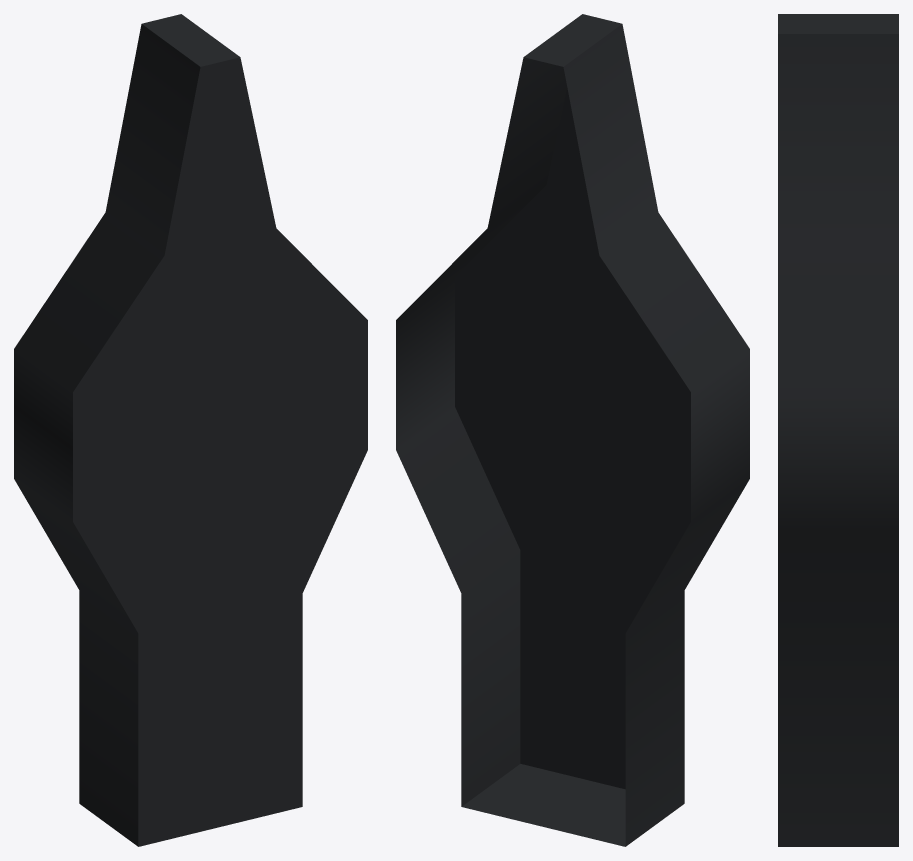
Rendered from SM_Bld_Clock_Tower_HourHand_01.fbx.
3 renders of one model, left to right at view 1: azimuth 30°, elevation 25°; view 2: azimuth 150°, elevation 25°; view 3: azimuth 270°, elevation 25°, orthographic. The views are drawn at different scales.
Parts seen in each view (by area): view 1: SM_Bld_Clock_Tower_HourHand_01; view 2: SM_Bld_Clock_Tower_HourHand_01; view 3: SM_Bld_Clock_Tower_HourHand_01.
Part boxes in pixels (left/top/right/bottom): SM_Bld_Clock_Tower_HourHand_01: left=14, top=14, right=367, bottom=846; SM_Bld_Clock_Tower_HourHand_01: left=396, top=14, right=749, bottom=846; SM_Bld_Clock_Tower_HourHand_01: left=778, top=14, right=898, bottom=846.
Bounding box in the file's own units: 9.32 × 23.1 × 3.23.
